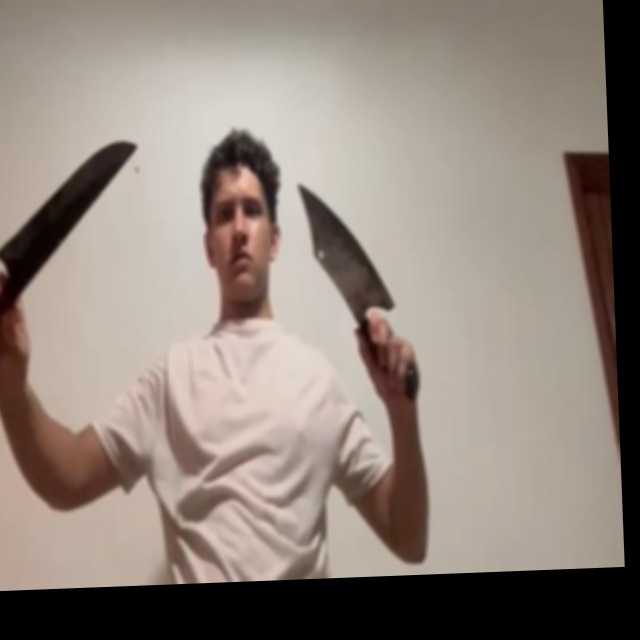Sharp-Object: (0, 140, 142, 260), (297, 178, 396, 316)
